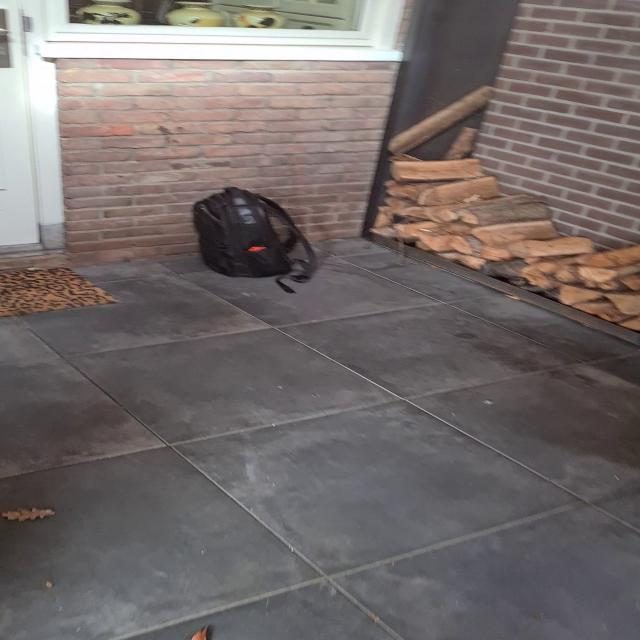backpack: (187, 184, 315, 282)
